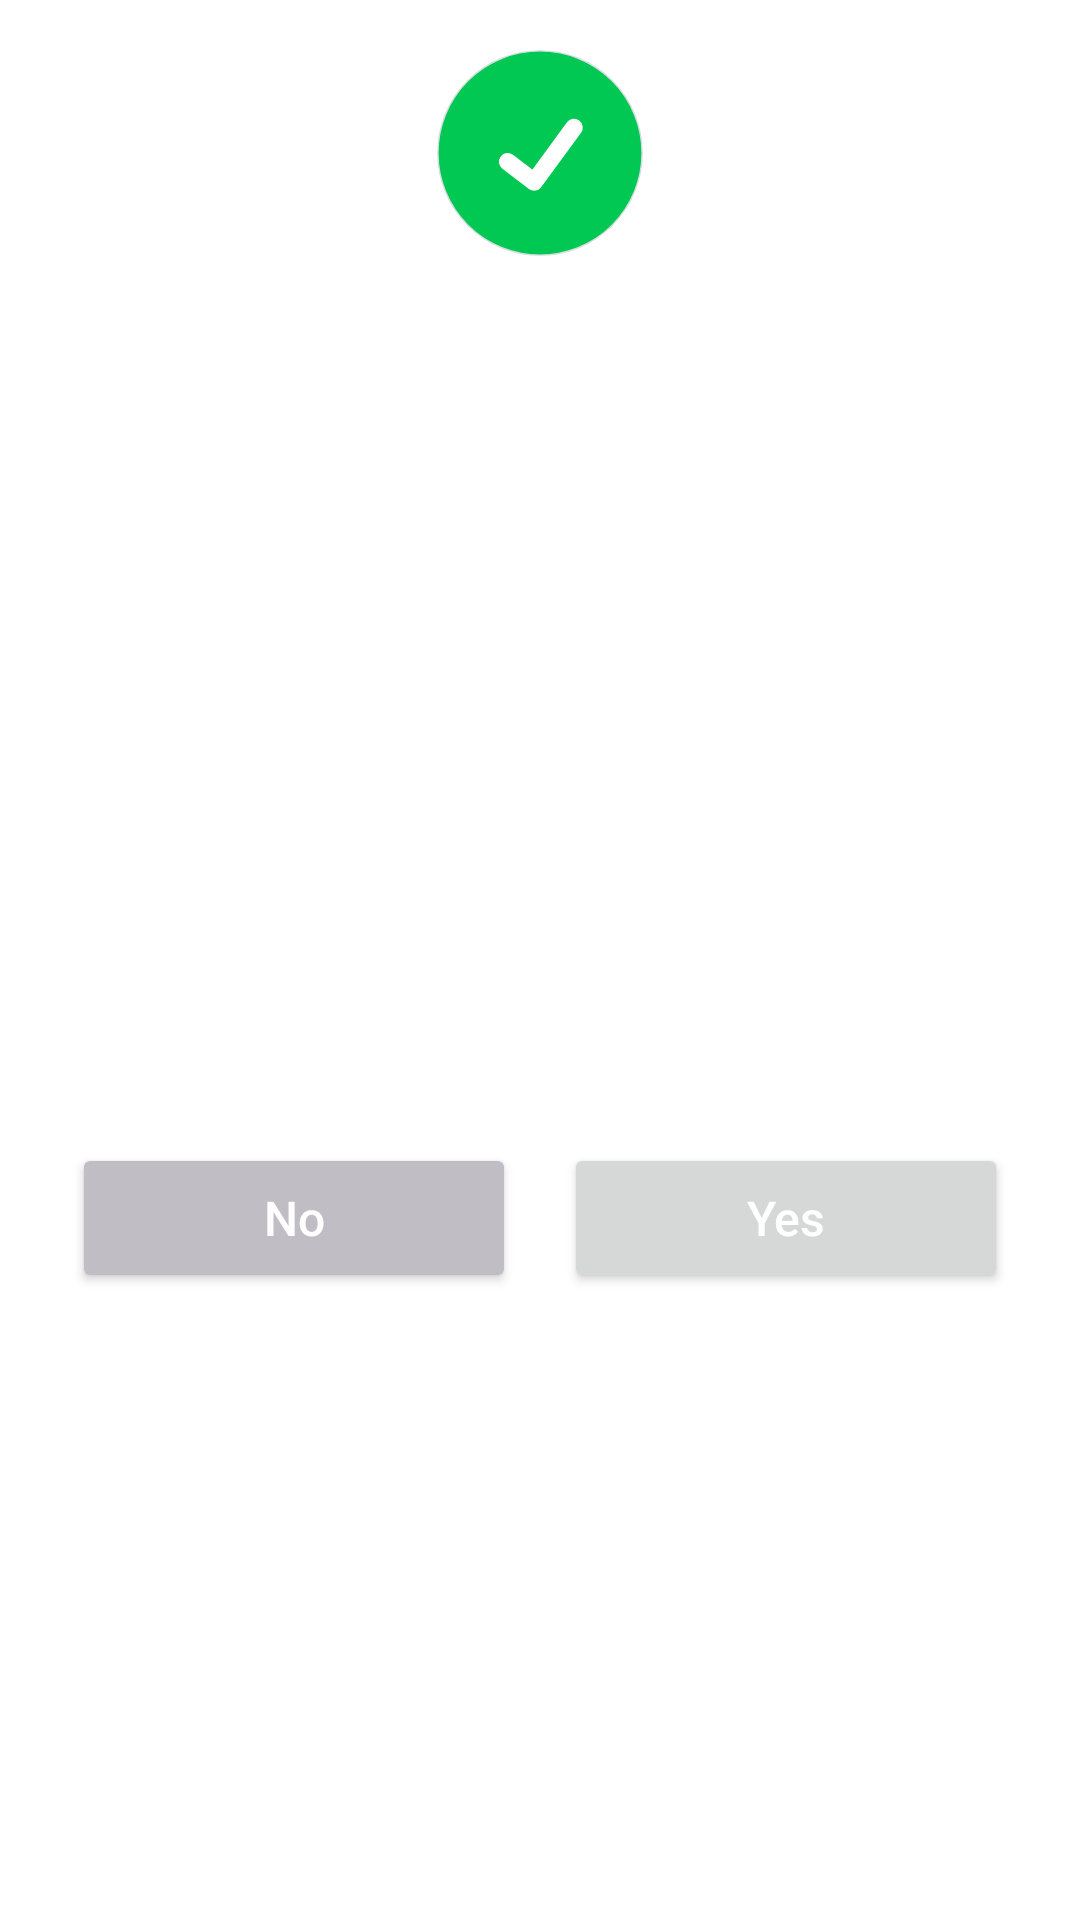

Icons on this 1080 x 1920 Android screen, each with its box as box(x1, y1, x2, y2):
success: box(437, 50, 643, 256)
